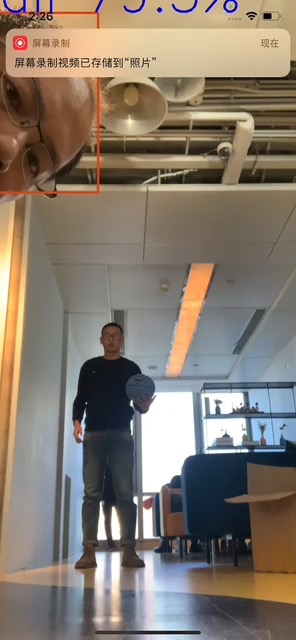ball: (125, 374, 156, 404)
